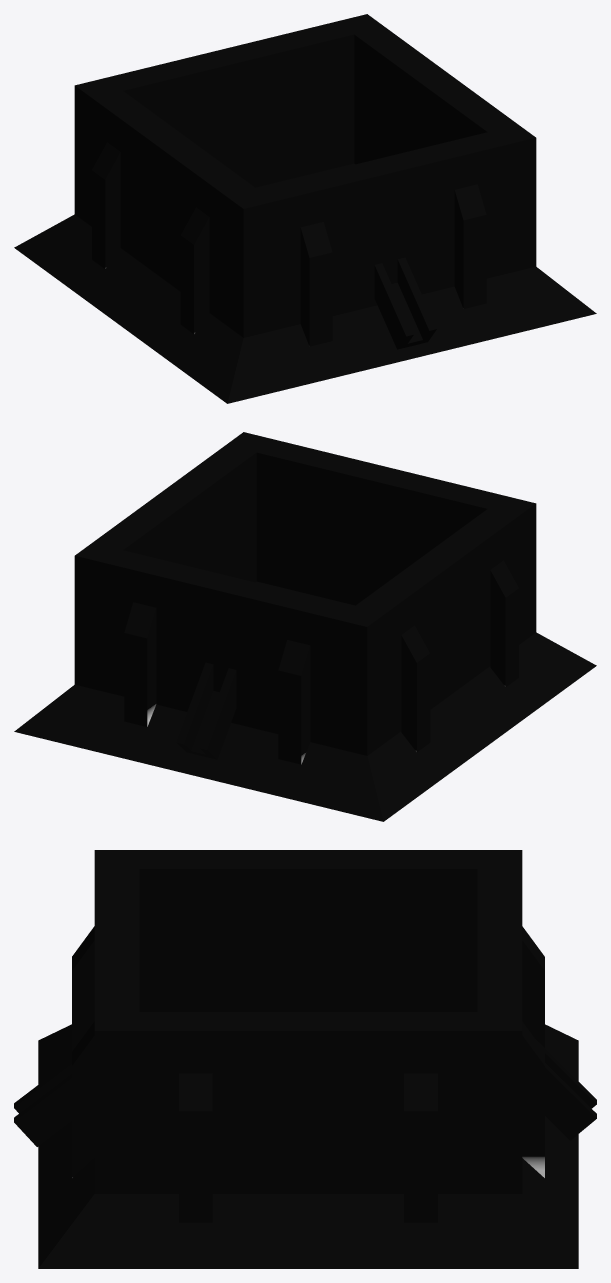
File: crucible.obj
3 renders of one model, top to bottom at view 1: azimuth 30°, elevation 25°; view 2: azimuth 150°, elevation 25°; view 3: azimuth 270°, elevation 25°, orthographic. The views are drawn at different scales.
Visible parts, largest first — view 1: cube; view 2: cube; view 3: cube.
Part boxes in pixels (box(x1,y1,x2,y2)): cube: box(14, 14, 596, 403); cube: box(14, 432, 596, 821); cube: box(14, 850, 596, 1268).
Size of the model in its own units: 3 by 1.31 by 3.24.
